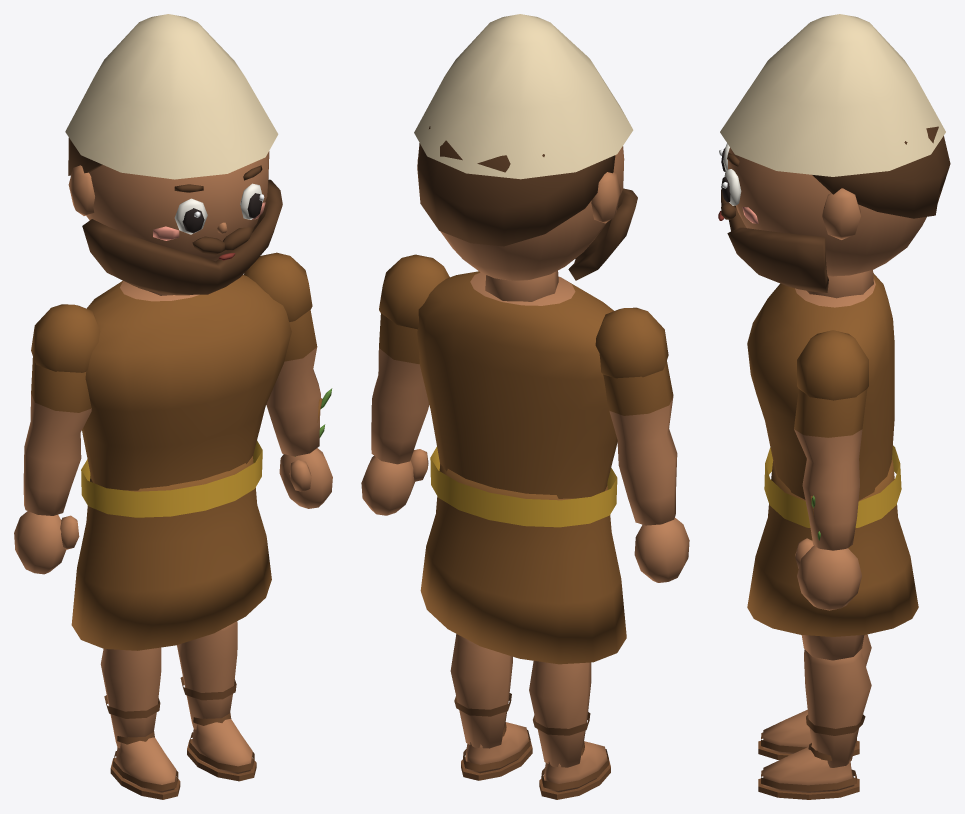
File: bauer.glb
3 views of the same model, side by side, from view 1: azimuth 30°, elevation 25°; view 2: azimuth 150°, elevation 25°; view 3: azimuth 270°, elevation 25° (orthographic). The views are drawn at different scales.
Visible parts, largest first — view 1: rumpf, huefte, kopfschmuck, armL, kopf, armR, bart, knieL, knieR, augeL, augeR; view 2: rumpf, huefte, kopfschmuck, armL, armR, haare, kopf, knieL, knieR, bart; view 3: kopfschmuck, rumpf, armR, huefte, kopf, knieR, haare, bart, knieL, beinR, augeR.
Boxes of the visible parts, left/top/right/bottom form: rumpf: left=81, top=275, right=291, bottom=517; huefte: left=71, top=456, right=271, bottom=650; kopfschmuck: left=65, top=14, right=278, bottom=179; armL: left=14, top=304, right=100, bottom=574; kopf: left=68, top=151, right=269, bottom=295; armR: left=243, top=252, right=332, bottom=508; bart: left=82, top=179, right=282, bottom=295; knieL: left=100, top=647, right=180, bottom=799; knieR: left=177, top=621, right=256, bottom=781; augeL: left=174, top=198, right=207, bottom=234; augeR: left=240, top=183, right=264, bottom=219; rumpf: left=417, top=271, right=617, bottom=527; huefte: left=420, top=464, right=626, bottom=664; kopfschmuck: left=414, top=14, right=633, bottom=179; armL: left=595, top=307, right=689, bottom=582; armR: left=361, top=254, right=449, bottom=515; haare: left=417, top=126, right=615, bottom=246; kopf: left=417, top=146, right=624, bottom=301; knieL: left=529, top=661, right=610, bottom=799; knieR: left=450, top=634, right=532, bottom=780; bart: left=568, top=188, right=637, bottom=280; kopfschmuck: left=720, top=14, right=945, bottom=176; rumpf: left=747, top=273, right=901, bottom=527; armR: left=794, top=330, right=868, bottom=610; huefte: left=747, top=459, right=918, bottom=636; kopf: left=728, top=147, right=926, bottom=298; knieR: left=758, top=649, right=871, bottom=799; haare: left=812, top=126, right=950, bottom=218; bart: left=721, top=189, right=828, bottom=292; knieL: left=758, top=634, right=871, bottom=759; beinR: left=801, top=635, right=864, bottom=660; augeR: left=721, top=169, right=741, bottom=205.
Bounding box in the file's own units: 1.05 × 2.43 × 0.6768.
